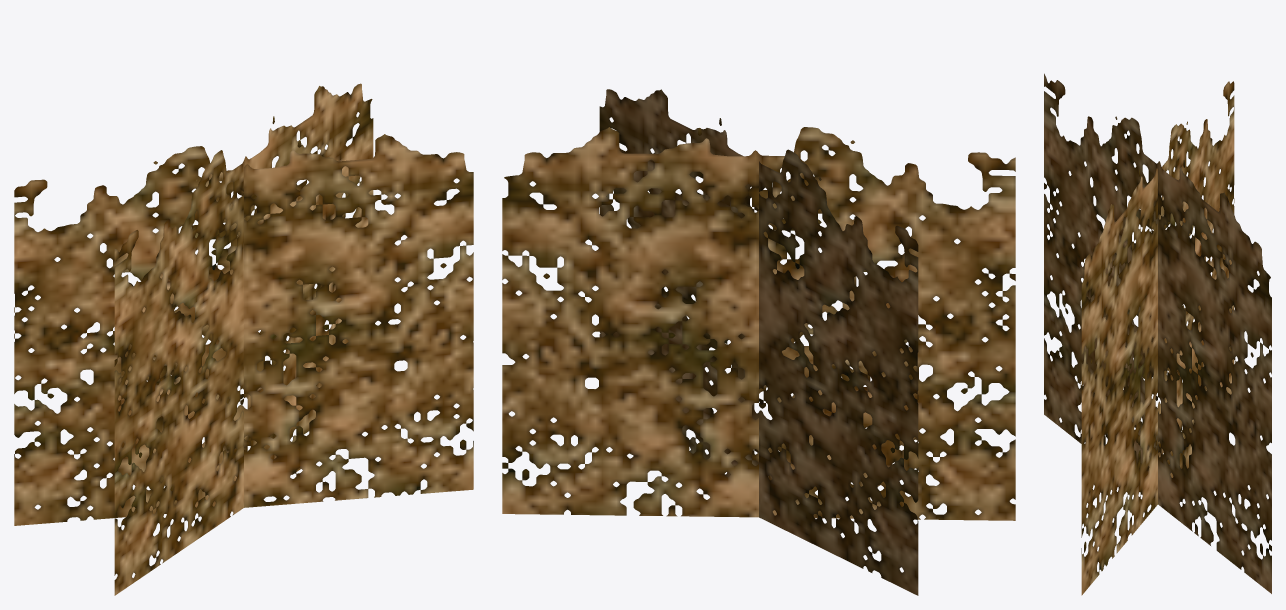
Rendered from bush_overgrown_autumn.fbx.
3 renders of one model, left to right at view 1: azimuth 30°, elevation 25°; view 2: azimuth 150°, elevation 25°; view 3: azimuth 270°, elevation 25°, orthographic. The views are drawn at different scales.
Visible parts, largest first — view 1: bush_overgrown_autumn; view 2: bush_overgrown_autumn; view 3: bush_overgrown_autumn.
Boxes of the visible parts, left/top/right/bottom form: bush_overgrown_autumn: left=14, top=83, right=473, bottom=595; bush_overgrown_autumn: left=502, top=89, right=1015, bottom=595; bush_overgrown_autumn: left=1044, top=73, right=1271, bottom=595.
Size of the model in its own units: 105 by 106 by 54.93.
1 material, 1 textured.
